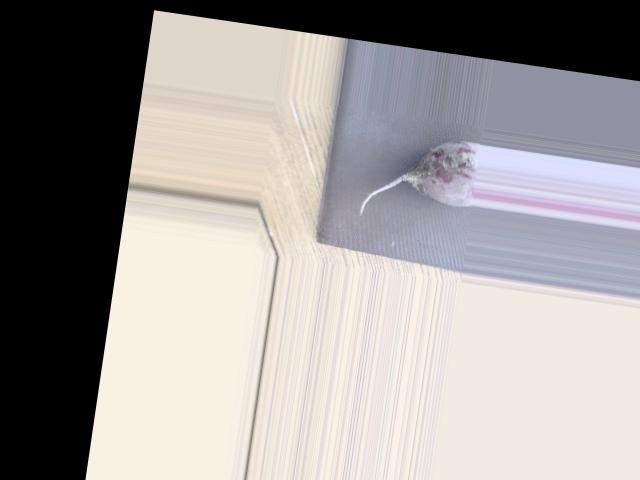beet: (359, 127, 481, 230)
